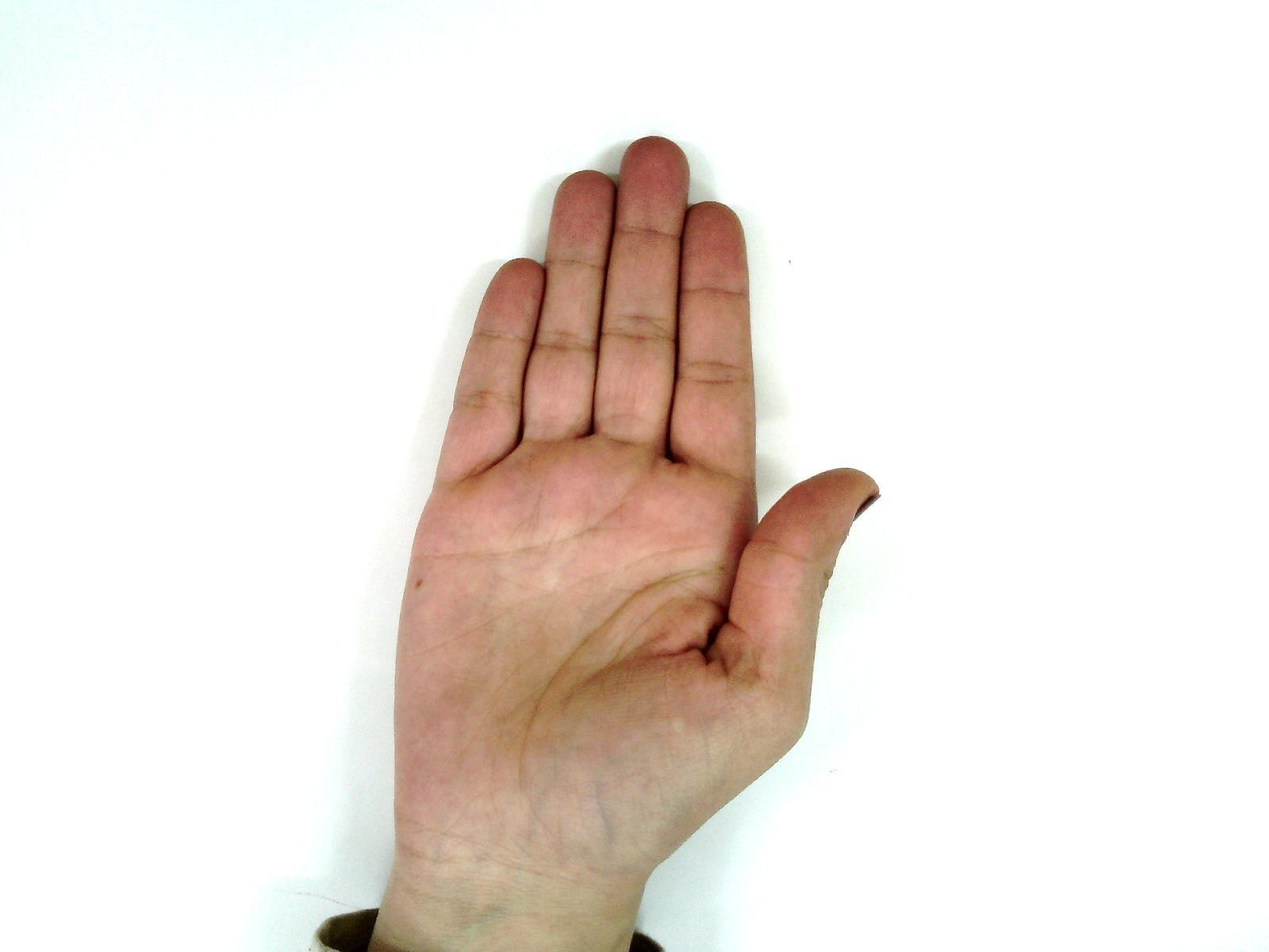open_palm: (361, 134, 879, 887)
